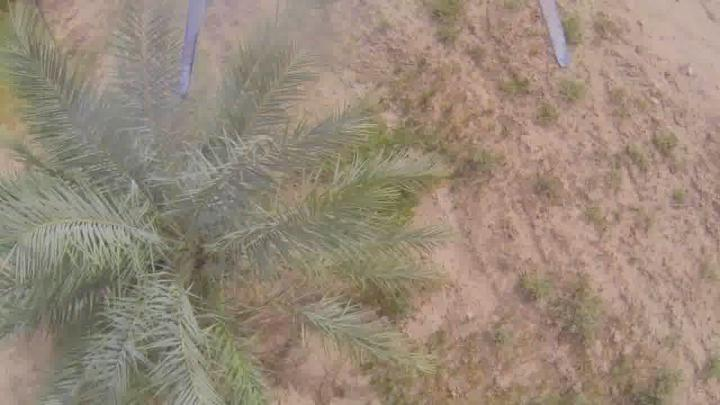Date-Palm-Crown: (26, 105, 347, 385)
